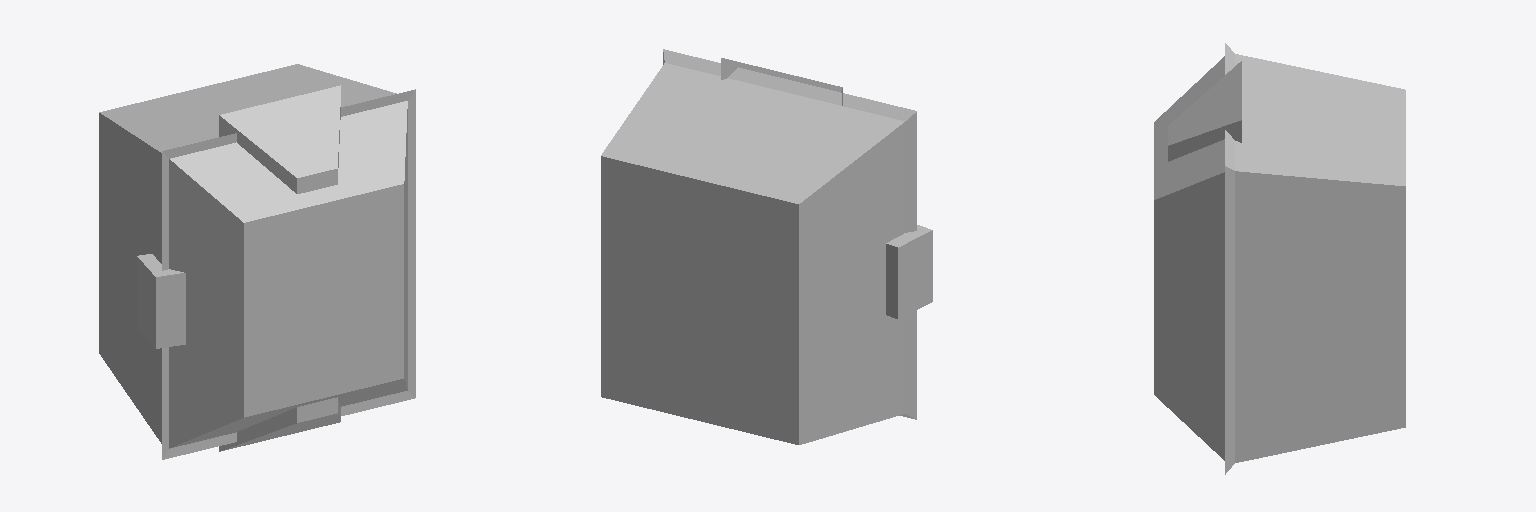
File: isotopebox.obj
The picture shows the model from 3 angles: view 1: azimuth 30°, elevation 25°; view 2: azimuth 150°, elevation 25°; view 3: azimuth 270°, elevation 25°; orthographic projection.
Parts seen in each view (by area): view 1: isotope_container; view 2: isotope_container; view 3: isotope_container.
Part boxes in pixels (x1,y1,x2,y2): isotope_container: (99,64,415,459); isotope_container: (601,49,932,444); isotope_container: (1154,43,1405,474).
Bounding box in the file's own units: 1.37 × 1.66 × 1.13.